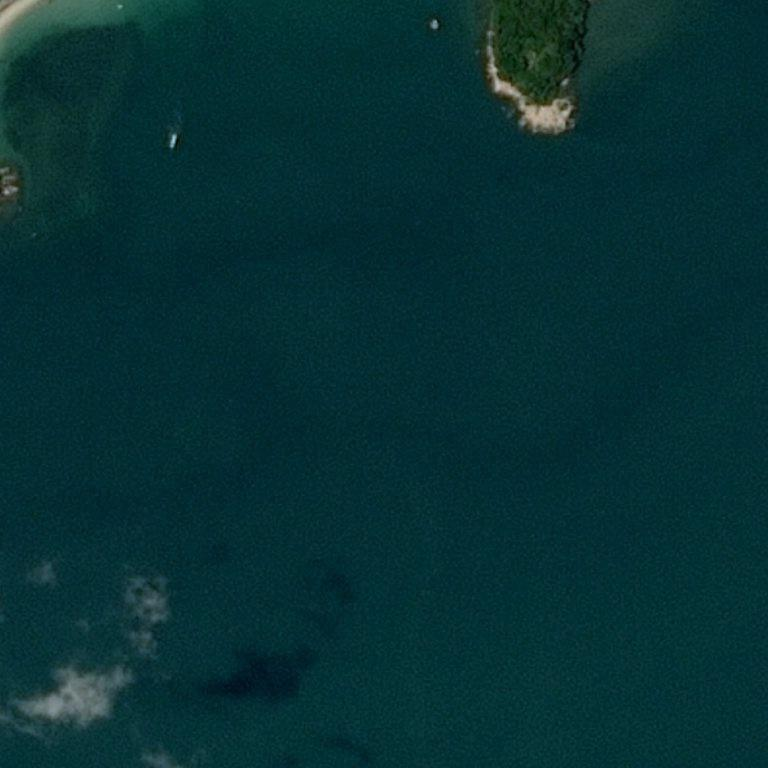ship: (171, 54, 175, 75), (170, 147, 173, 150), (171, 134, 175, 135), (22, 134, 24, 134)
